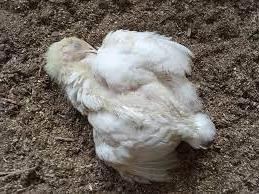AbNormal: (41, 27, 229, 181)
